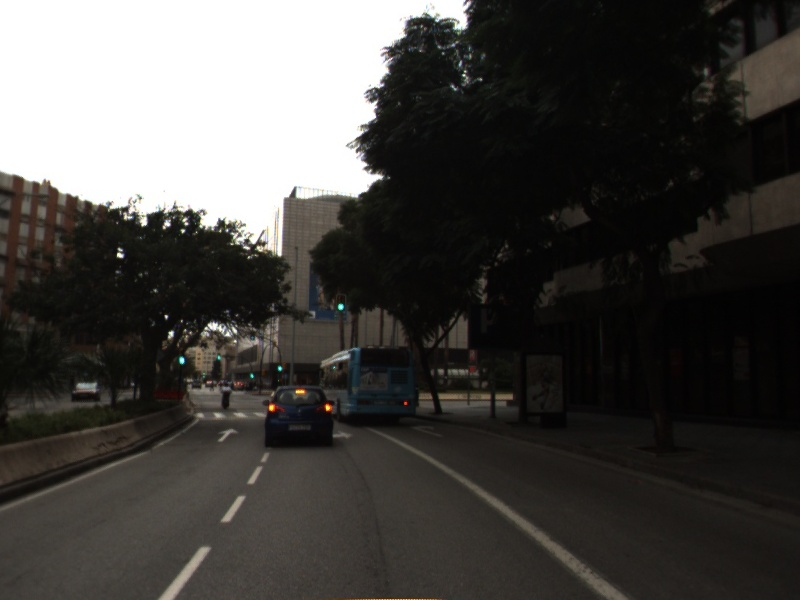RIGHT: (409, 423, 447, 439)
STRAIGHT: (215, 426, 242, 444)
